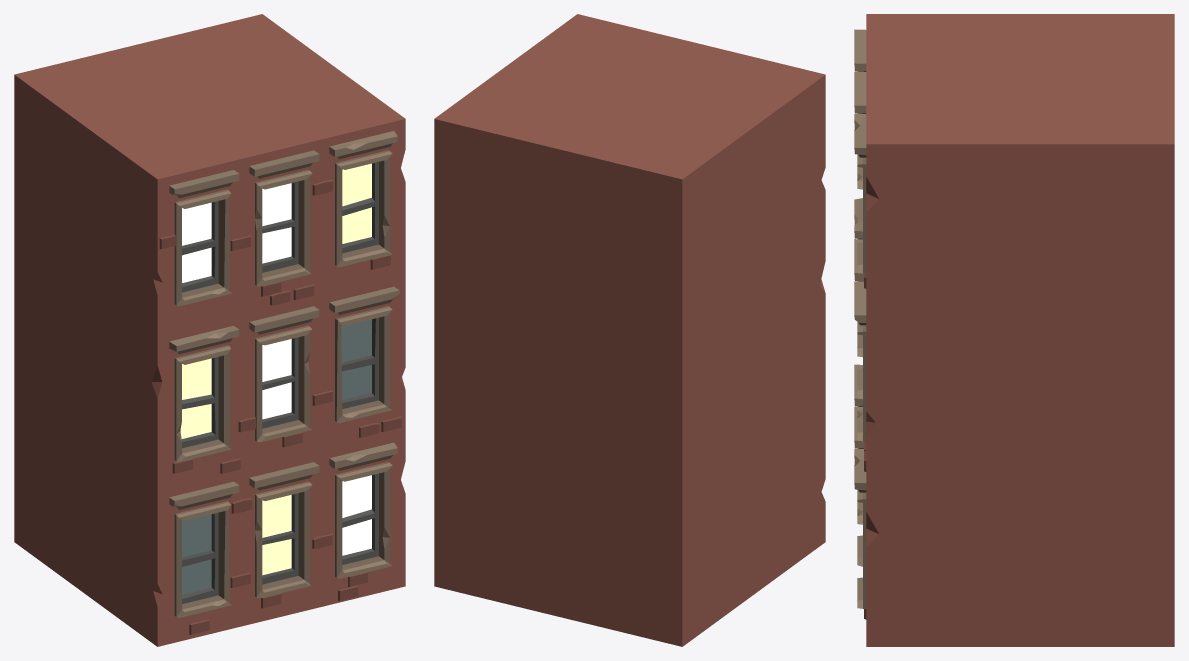
Rendered from SM_Bld_Apartment_Stack_01.fbx.
3 views of the same model, side by side, from view 1: azimuth 30°, elevation 25°; view 2: azimuth 150°, elevation 25°; view 3: azimuth 270°, elevation 25° (orthographic). The views are drawn at different scales.
Visible parts, largest first — view 1: SM_Bld_Apartment_Stack_01; view 2: SM_Bld_Apartment_Stack_01; view 3: SM_Bld_Apartment_Stack_01.
Part boxes in pixels (bbox=[...]): SM_Bld_Apartment_Stack_01: bbox=[14, 14, 405, 646]; SM_Bld_Apartment_Stack_01: bbox=[434, 14, 825, 646]; SM_Bld_Apartment_Stack_01: bbox=[854, 14, 1174, 646].
Size of the model in its own units: 500 by 900 by 520.
